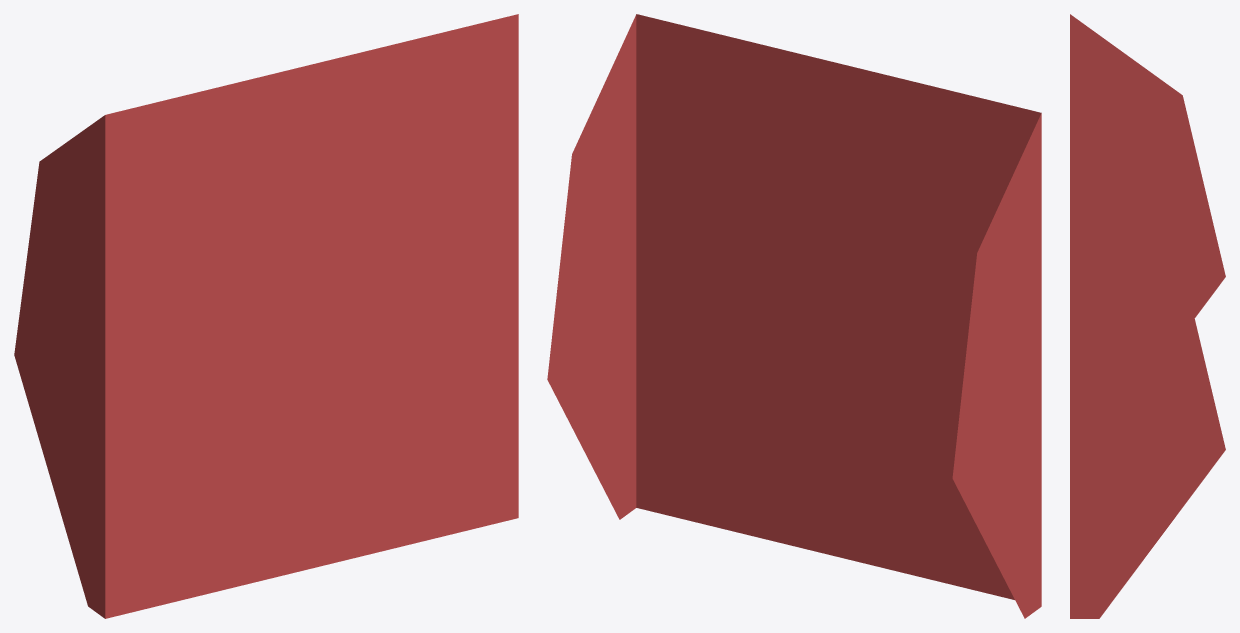
File: mesh_door_COLLISION.fbx
3 views of the same model, side by side, from view 1: azimuth 30°, elevation 25°; view 2: azimuth 150°, elevation 25°; view 3: azimuth 270°, elevation 25° (orthographic). The views are drawn at different scales.
Visible parts, largest first — view 1: mesh_door_COLLISION; view 2: mesh_door_COLLISION; view 3: mesh_door_COLLISION.
Part boxes in pixels (x1,y1,x2,y2): mesh_door_COLLISION: (14,14,518,618); mesh_door_COLLISION: (547,14,1041,618); mesh_door_COLLISION: (1070,14,1225,618).
Bounding box in the file's own units: 6 × 6.99 × 2.29.
